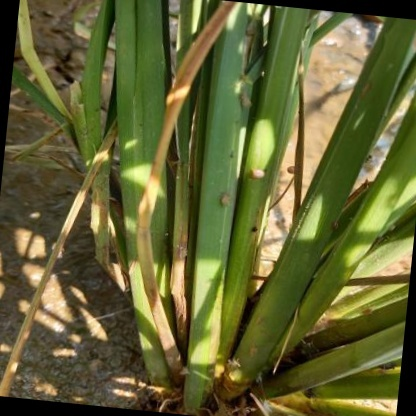Brown_hopper: (230, 88, 257, 114), (212, 188, 237, 210), (244, 344, 261, 360), (249, 316, 268, 330), (174, 366, 193, 379), (160, 355, 175, 369)
